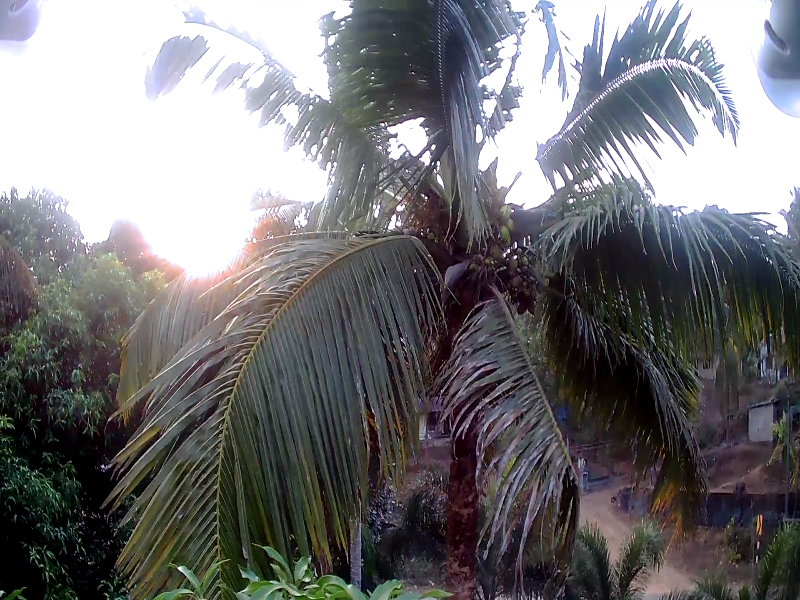coconut: (491, 243, 503, 257), (501, 232, 511, 246), (499, 206, 508, 221), (507, 258, 515, 267), (513, 278, 521, 287)
